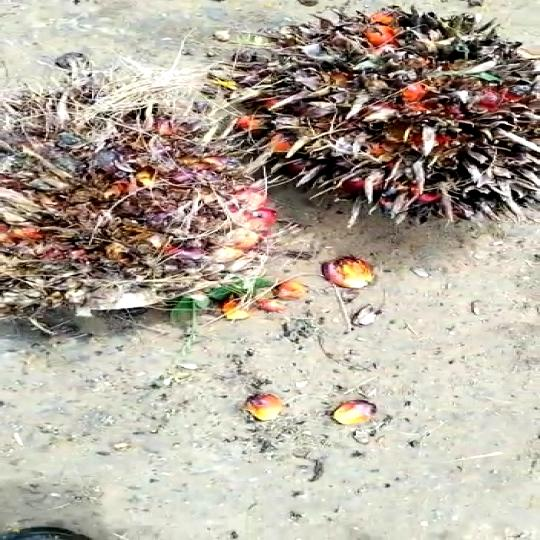terlalu masak: (199, 0, 539, 220), (0, 84, 290, 338)
